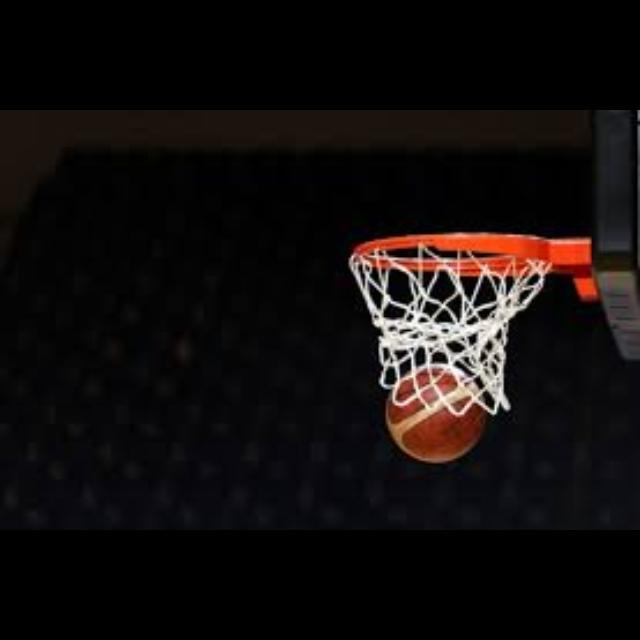basketball: (386, 366, 488, 462)
rim: (348, 233, 550, 412)
